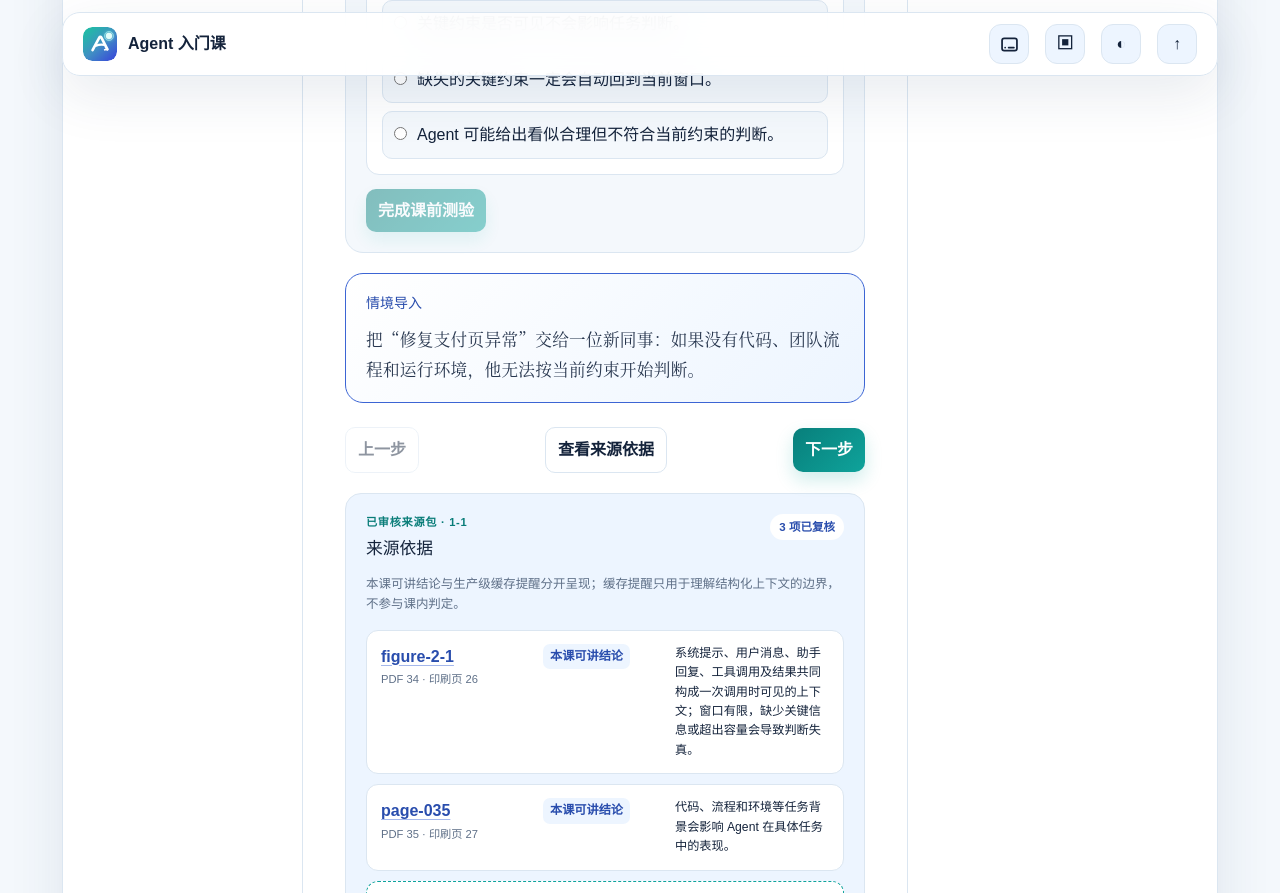
Scenario: App routes and global learning profile › keeps learning available when the global profile cannot be saved
(page scrolled)
Click the button "下一步". click: (829, 450)
box: top-left (793, 428), bottom-right (865, 472)
(page scrolled)
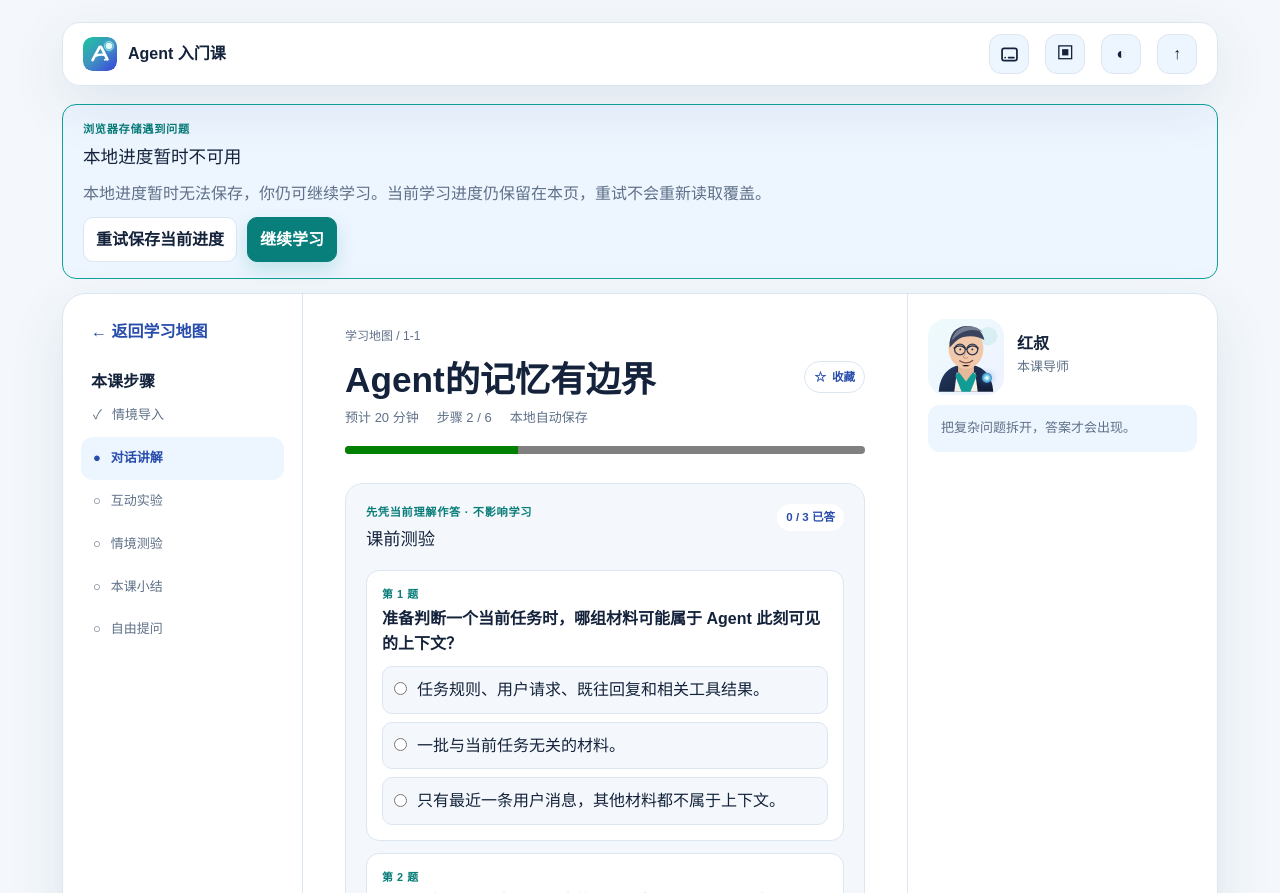
Check: the heading "本地进度暂时不可用" is shown, box top-left (83, 147), bottom-right (241, 167)
Check: the text "步骤 2 / 6" is shown, box top-left (437, 408), bottom-right (492, 429)
Check: the button "重试保存当前进度" is enabled, box top-left (83, 217), bottom-right (237, 262)
